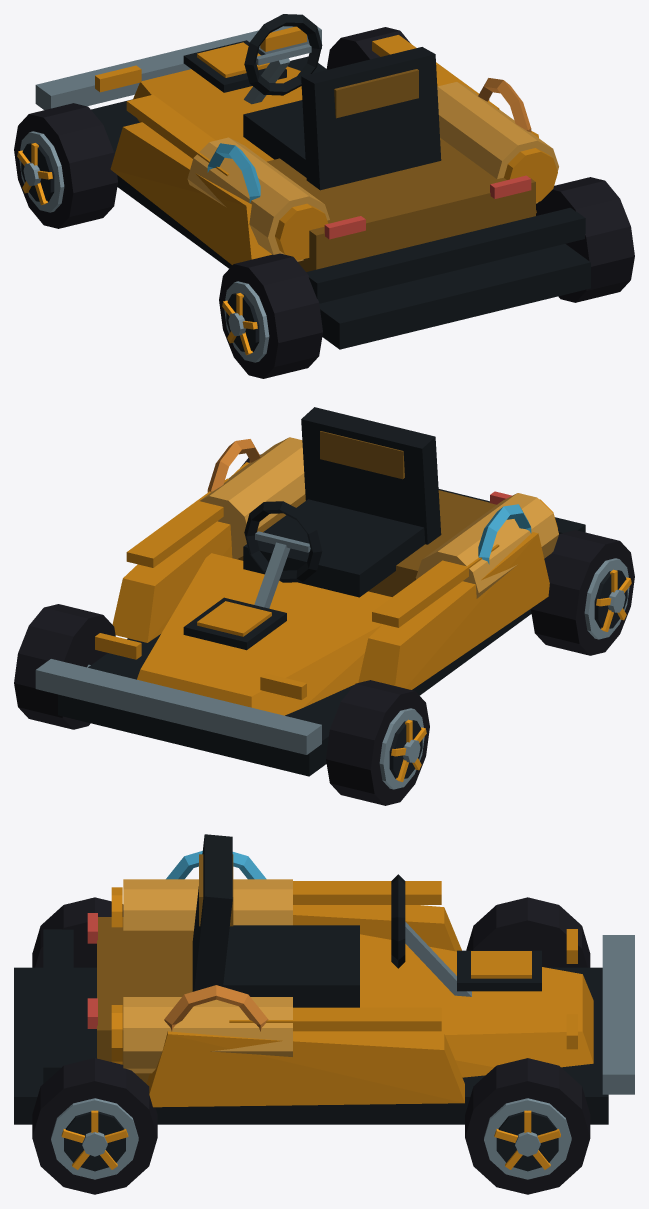
The model's file is kart.glb.
3 views of the same model, one above another, from view 1: azimuth 30°, elevation 25°; view 2: azimuth 150°, elevation 25°; view 3: azimuth 270°, elevation 25° (orthographic). The views are drawn at different scales.
Visible parts, largest first — view 1: chassis, wheel-rear-left, wheel-front-left, wheel-rear-right, wheel-front-right; view 2: chassis, wheel-front-left, wheel-rear-left, wheel-front-right; view 3: chassis, wheel-front-right, wheel-rear-right, wheel-front-left, wheel-rear-left.
Boxes of the visible parts, x1,y1,x2,y2 form: chassis: (35, 14, 590, 349); wheel-rear-left: (219, 253, 322, 378); wheel-front-left: (14, 103, 117, 228); wheel-rear-right: (536, 177, 634, 302); wheel-front-right: (326, 27, 410, 69); chassis: (35, 407, 585, 776); wheel-front-left: (326, 680, 429, 805); wheel-rear-left: (531, 530, 634, 655); wheel-front-right: (14, 604, 115, 729); chassis: (14, 834, 634, 1124); wheel-front-right: (465, 1058, 590, 1194); wheel-rear-right: (32, 1058, 157, 1194); wheel-front-left: (466, 897, 590, 967); wheel-rear-left: (32, 897, 123, 967).
Size of the model in its own units: 2.32 by 1.3 by 3.07.
